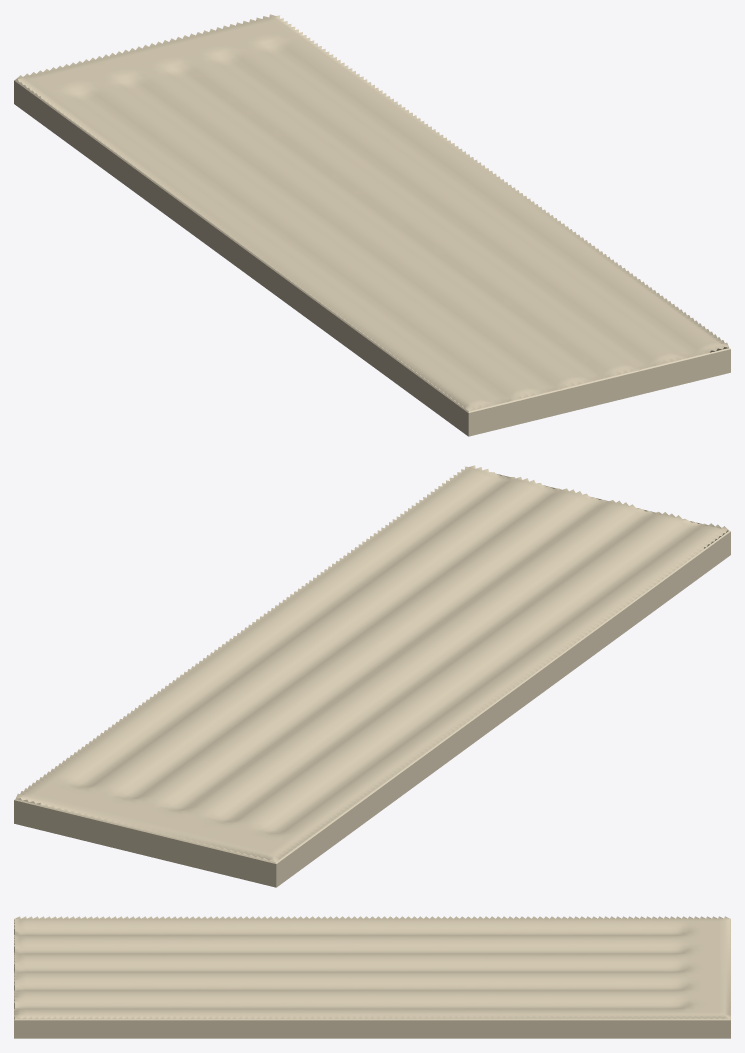
File: mahsulot.glb
The picture shows the model from 3 angles, top to bottom: view 1: azimuth 30°, elevation 25°; view 2: azimuth 150°, elevation 25°; view 3: azimuth 270°, elevation 25°; orthographic projection. The views are drawn at different scales.
Parts seen in each view (by area): view 1: mahsulot; view 2: mahsulot; view 3: mahsulot.
Part boxes in pixels (<box>): mahsulot: <box>14,14,730,436</box>; mahsulot: <box>14,465,730,887</box>; mahsulot: <box>14,916,730,1038</box>.
Bounding box in the file's own units: 0.4 × 0.0399 × 1.2.
